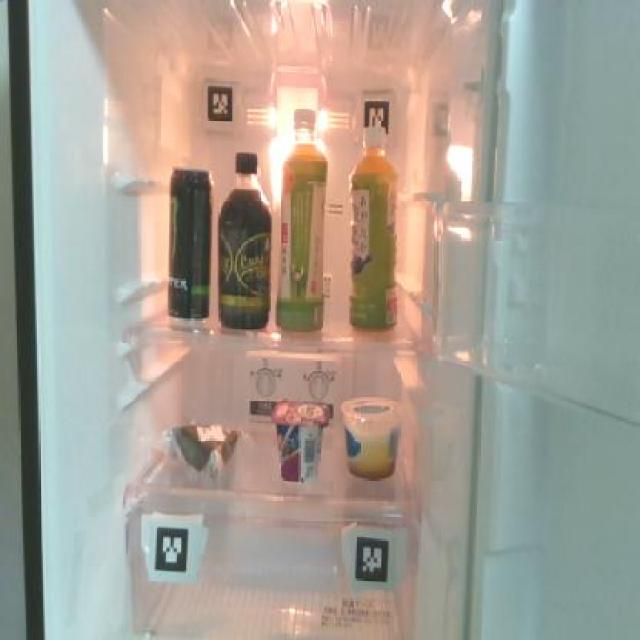coffee: (216, 146, 272, 334)
energy_drink: (166, 160, 212, 326)
pudding: (340, 391, 402, 482)
rice_ball: (165, 417, 240, 481)
tea_a: (345, 136, 400, 329)
tea_i: (274, 108, 328, 329)
yogurt: (272, 397, 330, 483)
